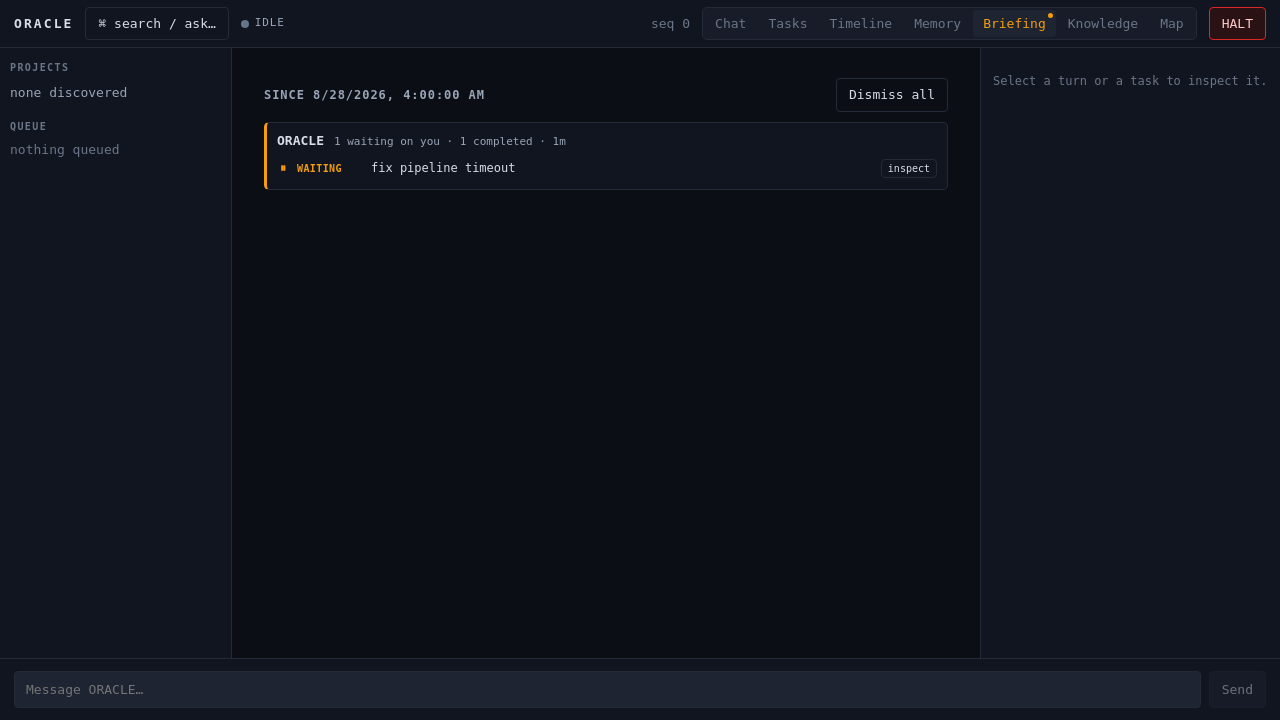
Test: the briefing's inspect affordance › says so when the task is no longer held, instead of showing a turn
Click the button with aria-label "Inspect fix pipeline timeout in ORACLE": [909, 168] box x1=881 y1=159 x2=937 y2=178
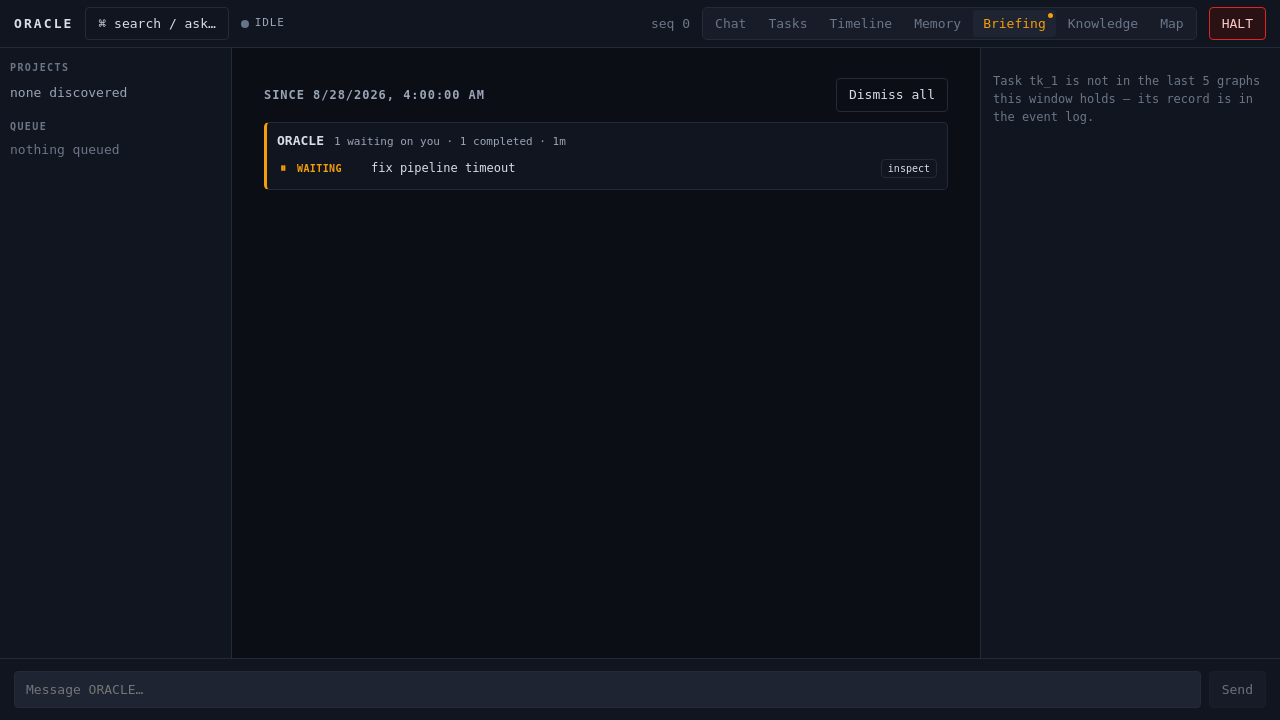
Result: the text "tk_1 is not in the last 5 graphs" is shown at x1=993 y1=72 x2=1268 y2=126
